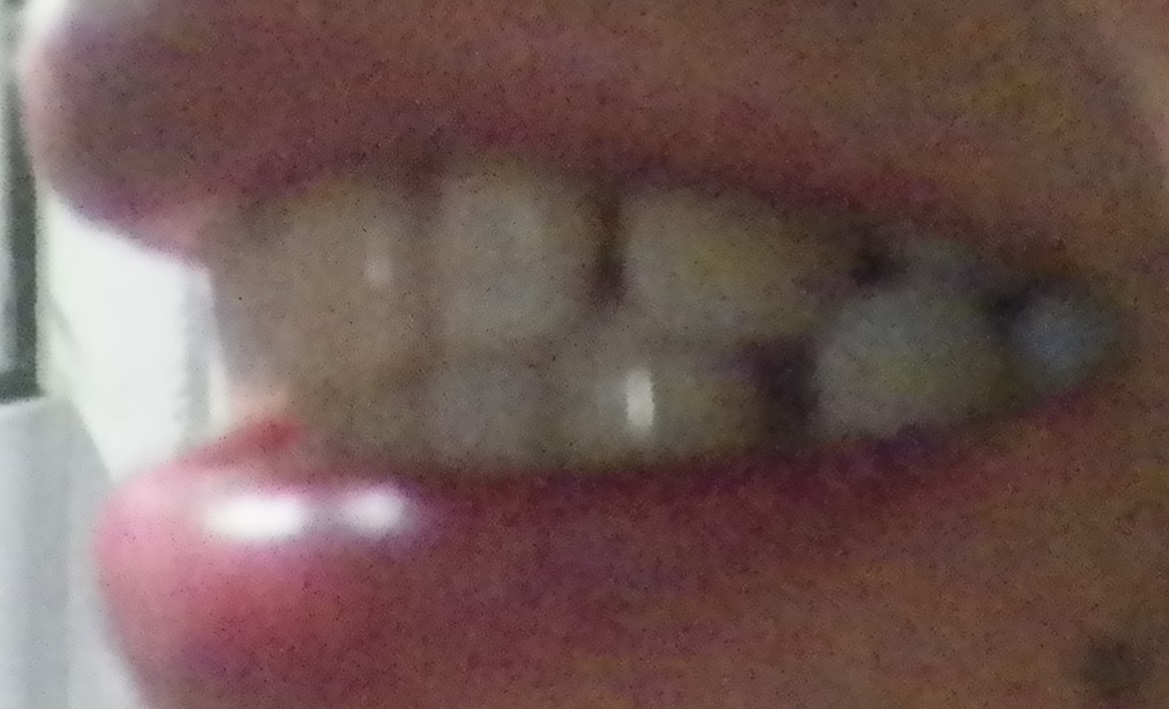boca: (204, 167, 1101, 450)
